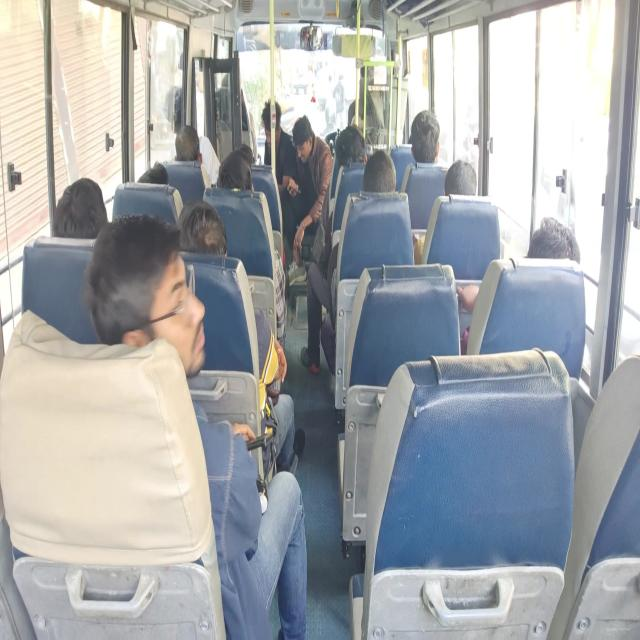person: (98, 224, 274, 382), (172, 200, 244, 266), (527, 212, 587, 286), (56, 172, 104, 228), (156, 116, 208, 164), (411, 120, 452, 172), (132, 154, 175, 202), (207, 152, 247, 196), (338, 120, 367, 178), (262, 100, 295, 150), (370, 156, 404, 202), (442, 162, 477, 200), (292, 122, 319, 163), (232, 146, 261, 179)
